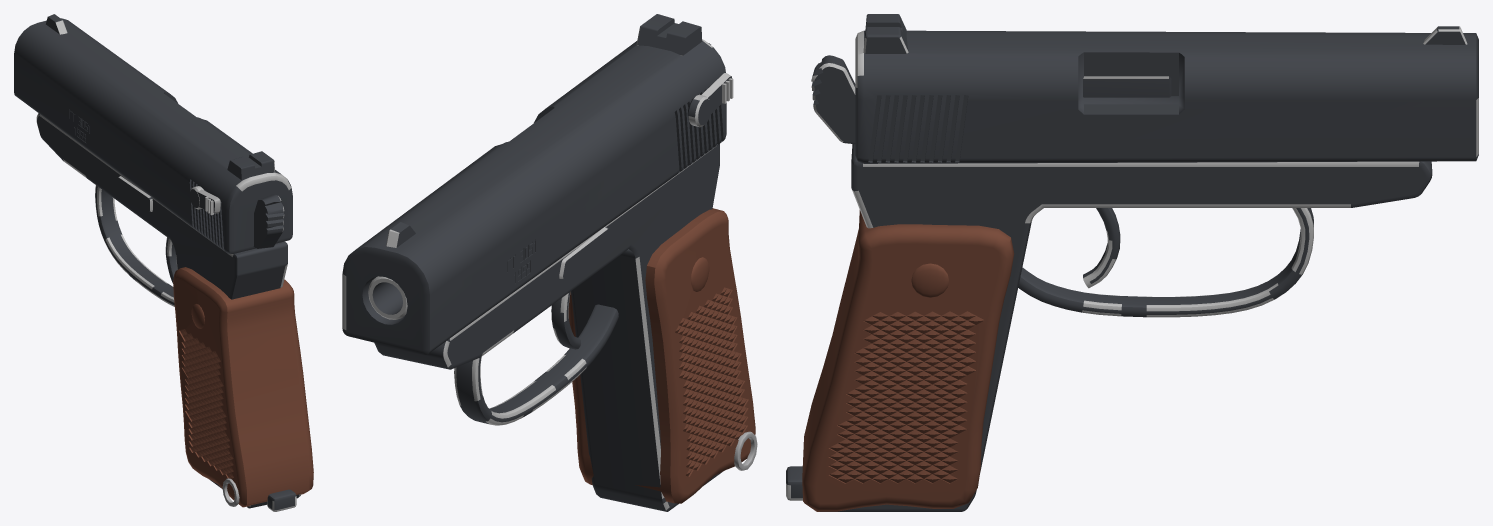
Rendered from pm_pistol.glb.
3 views of the same model, side by side, from view 1: azimuth 30°, elevation 25°; view 2: azimuth 150°, elevation 25°; view 3: azimuth 270°, elevation 25° (orthographic). The views are drawn at different scales.
Visible parts, largest first — view 1: static_frame, bolt_slide, hammer, selector_safety, trigger; view 2: static_frame, bolt_slide, selector_safety, trigger; view 3: static_frame, bolt_slide, hammer, trigger.
Boxes of the visible parts, x1,y1,x2,y2 form: static_frame: [36, 113, 313, 511]; bolt_slide: [14, 14, 292, 253]; hammer: [253, 194, 284, 248]; selector_safety: [190, 186, 220, 215]; trigger: [165, 237, 177, 283]; static_frame: [368, 144, 757, 511]; bolt_slide: [342, 14, 726, 354]; selector_safety: [687, 73, 733, 127]; trigger: [551, 292, 580, 349]; static_frame: [786, 76, 1432, 511]; bolt_slide: [855, 14, 1478, 163]; hammer: [811, 55, 855, 144]; trigger: [1083, 208, 1120, 288].
Size of the model in its own units: 0.035 by 0.132 by 0.1755.
